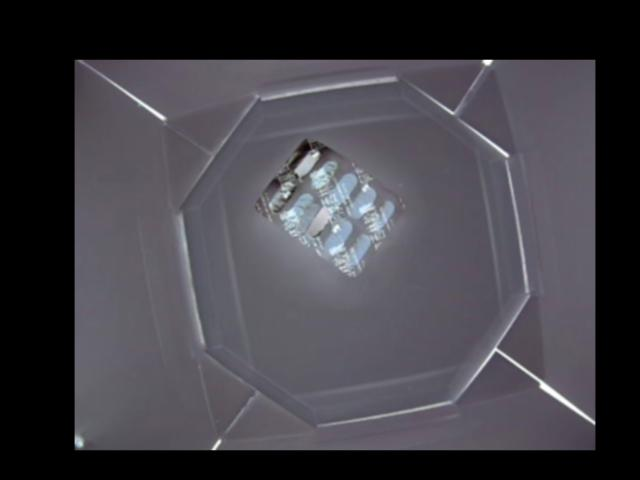Medicine: (257, 136, 406, 277)
